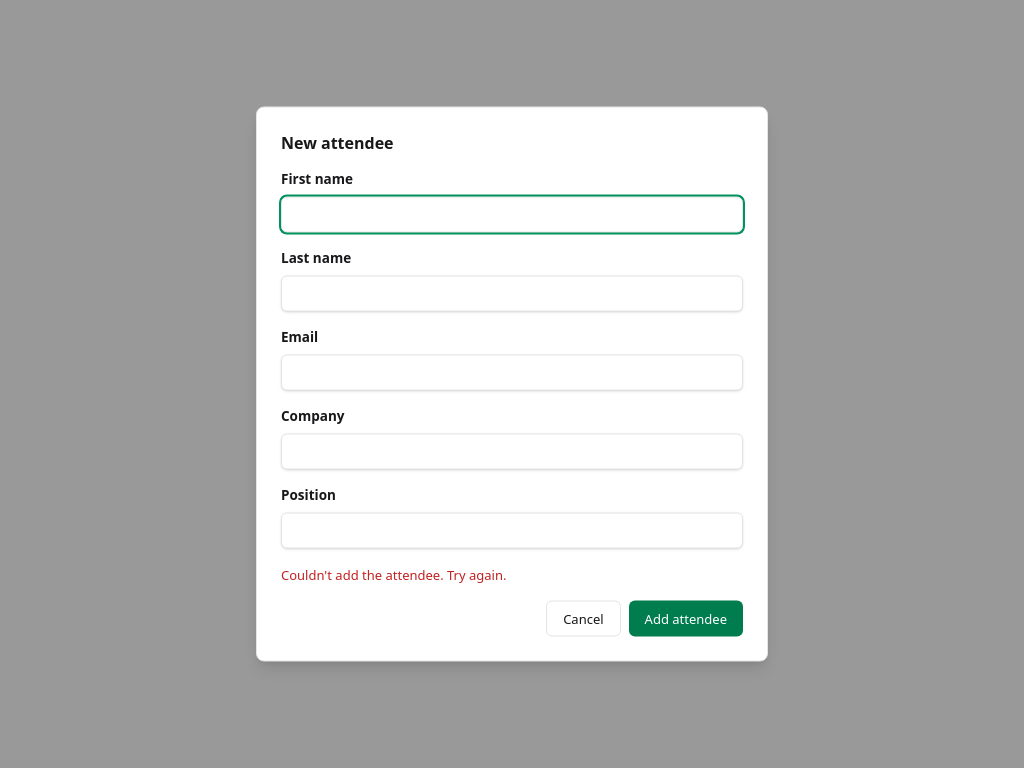
Test case: AddAttendeeDialog › shows an email-format error only when email is non-empty and invalid
In the field labelled "First name": (512, 215) [281,197,743,233], type "Ada"
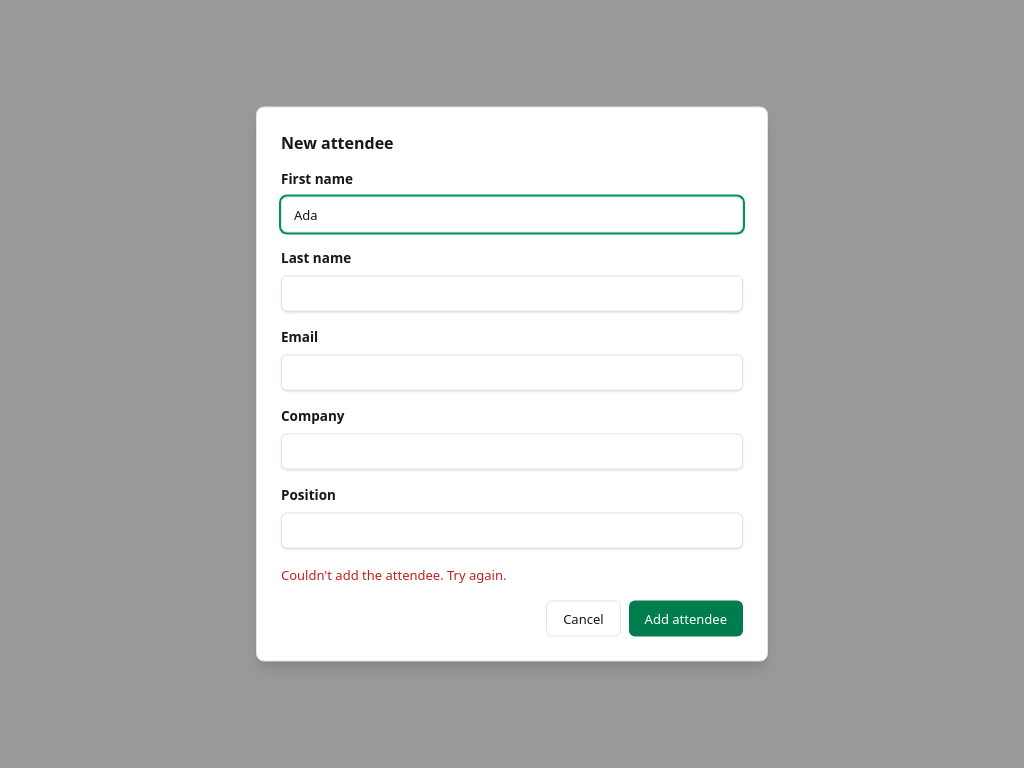
In the field labelled "Email": (512, 373) [281,355,743,391], type "not-an-email"
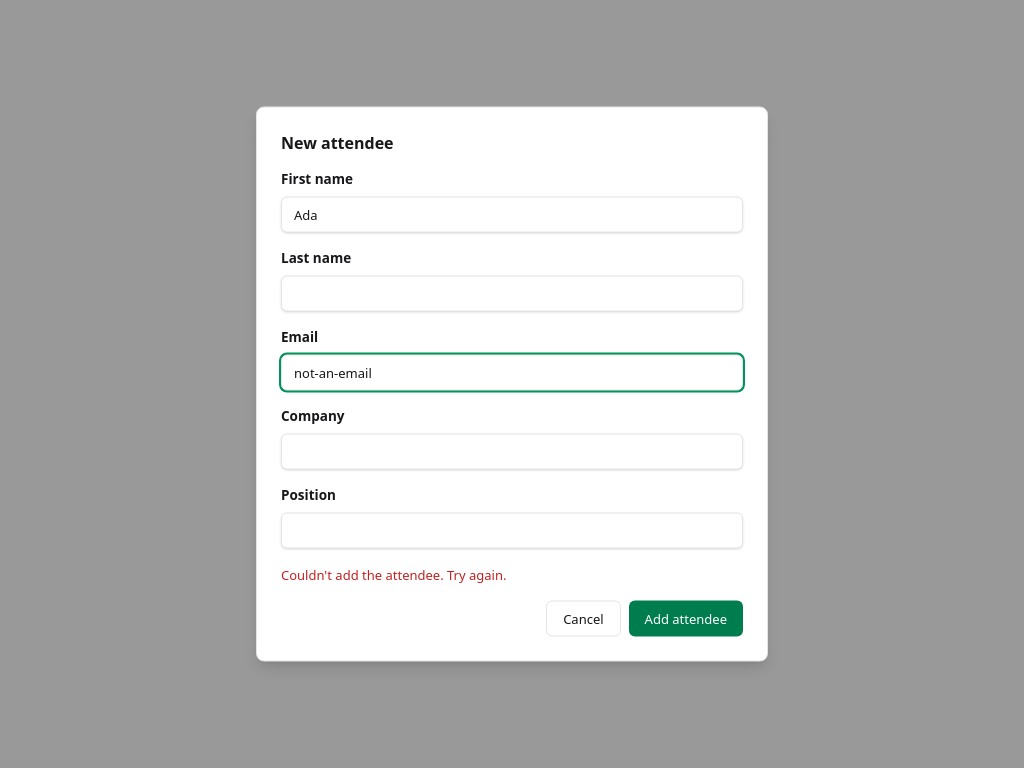
Click the button "Add attendee": click(686, 618) [629,600,743,636]
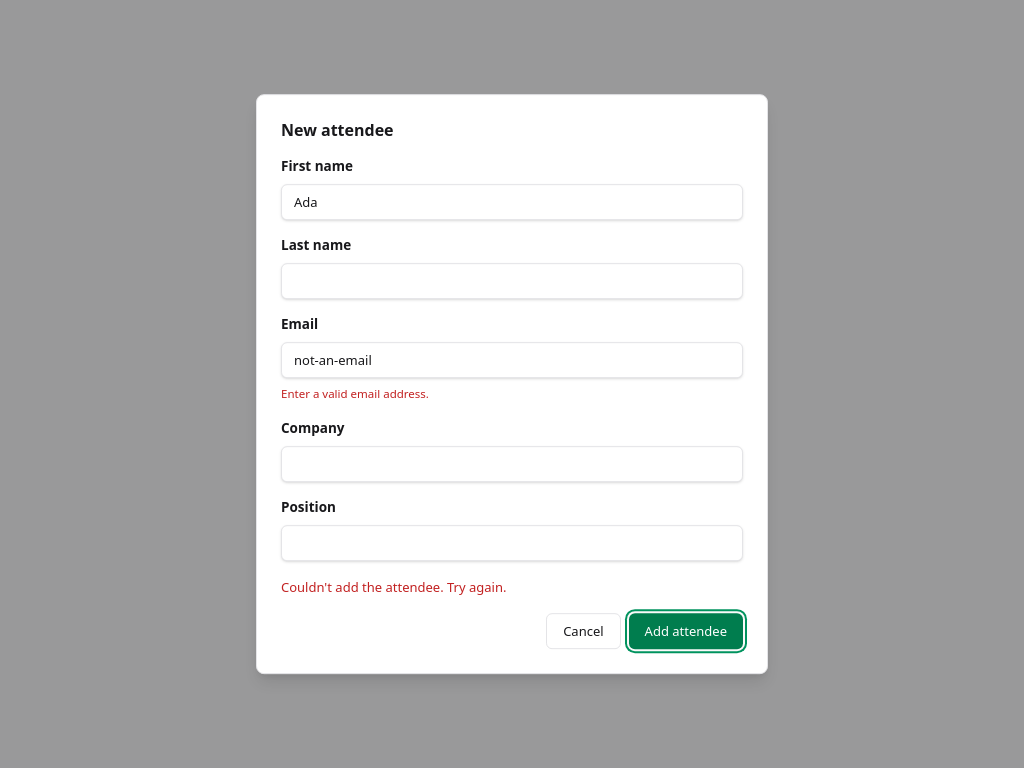
expect the text "Enter a valid email address." is shown: met, box [281,386,429,401]
